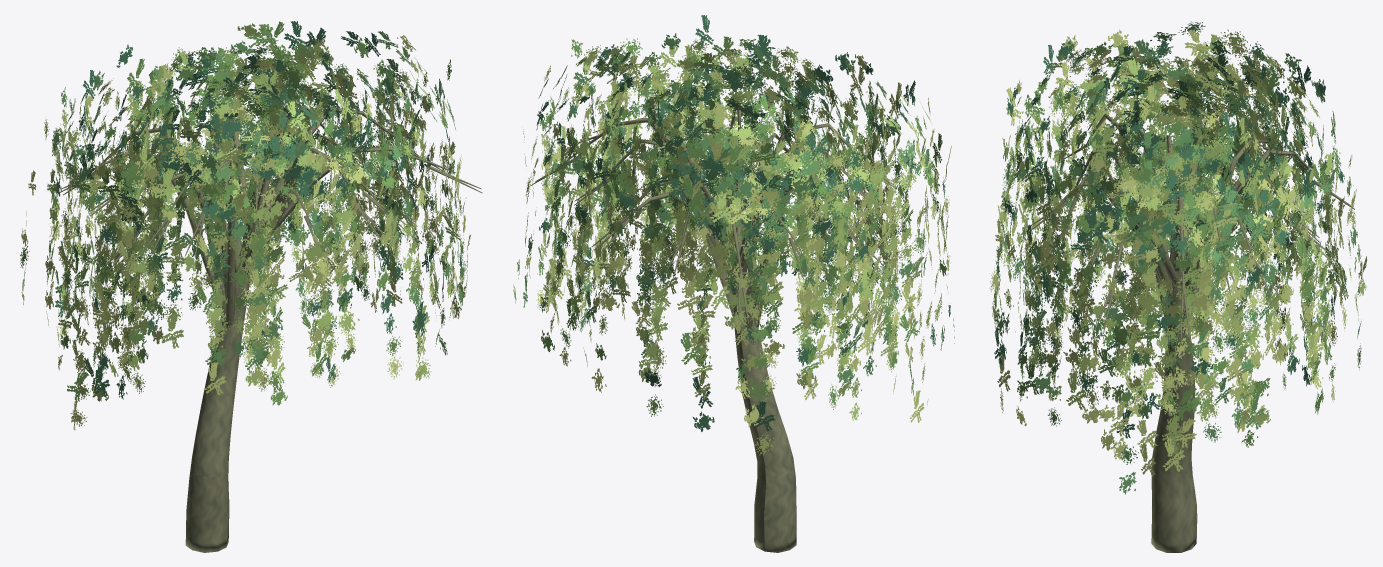
Rendered from Tree_Willow_03_Leaning_Bank.glb.
3 renders of one model, left to right at view 1: azimuth 30°, elevation 25°; view 2: azimuth 150°, elevation 25°; view 3: azimuth 270°, elevation 25°, orthographic. The views are drawn at different scales.
Parts seen in each view (by area): view 1: Tree_Willow_03_Leaning_Bank; view 2: Tree_Willow_03_Leaning_Bank; view 3: Tree_Willow_03_Leaning_Bank.
Part boxes in pixels (box(x1,y1,x2,y2)): Tree_Willow_03_Leaning_Bank: box(20, 21, 482, 552); Tree_Willow_03_Leaning_Bank: box(513, 15, 954, 552); Tree_Willow_03_Leaning_Bank: box(989, 21, 1367, 552).
Size of the model in its own units: 7.75 by 8.63 by 6.3.
2 materials, 2 textured.
